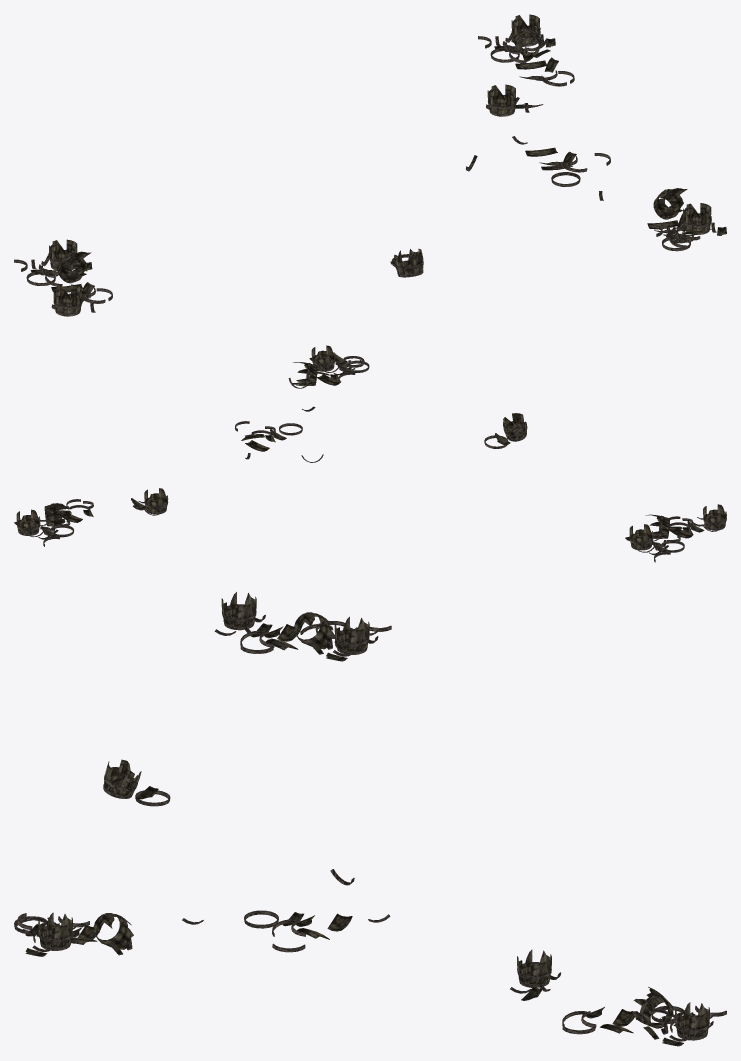
The picture shows the model from 3 angles, top to bottom: view 1: azimuth 30°, elevation 25°; view 2: azimuth 150°, elevation 25°; view 3: azimuth 270°, elevation 25°; orthographic projection. The views are drawn at different scales.
Parts seen in each view (by area): view 1: mesh0; view 2: mesh0; view 3: mesh0.
Boxes of the visible parts, left/top/right/bottom form: mesh0: left=14, top=14, right=726, bottom=316; mesh0: left=14, top=345, right=726, bottom=562; mesh0: left=14, top=592, right=726, bottom=1046.
Size of the model in its own units: 21.41 by 1.61 by 16.09.
